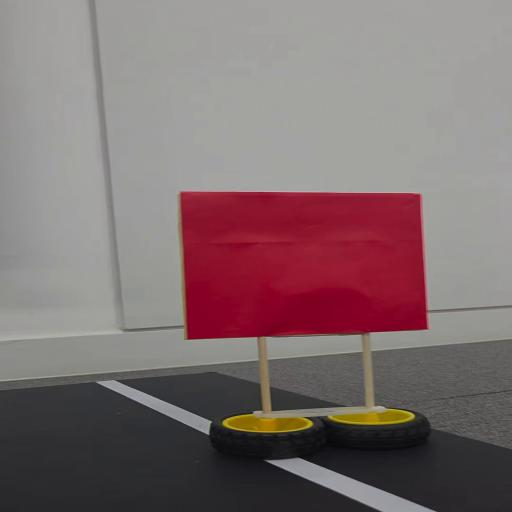Sign_A: (158, 181, 465, 467)
